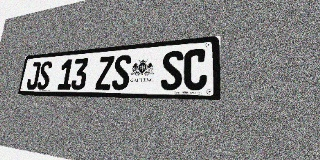1: (57, 59, 75, 90)
3: (71, 58, 89, 90)
C: (183, 48, 208, 90)
J: (26, 62, 41, 90)
S: (160, 50, 184, 90), (111, 54, 132, 90), (36, 61, 53, 90)
Z: (95, 56, 115, 90)
